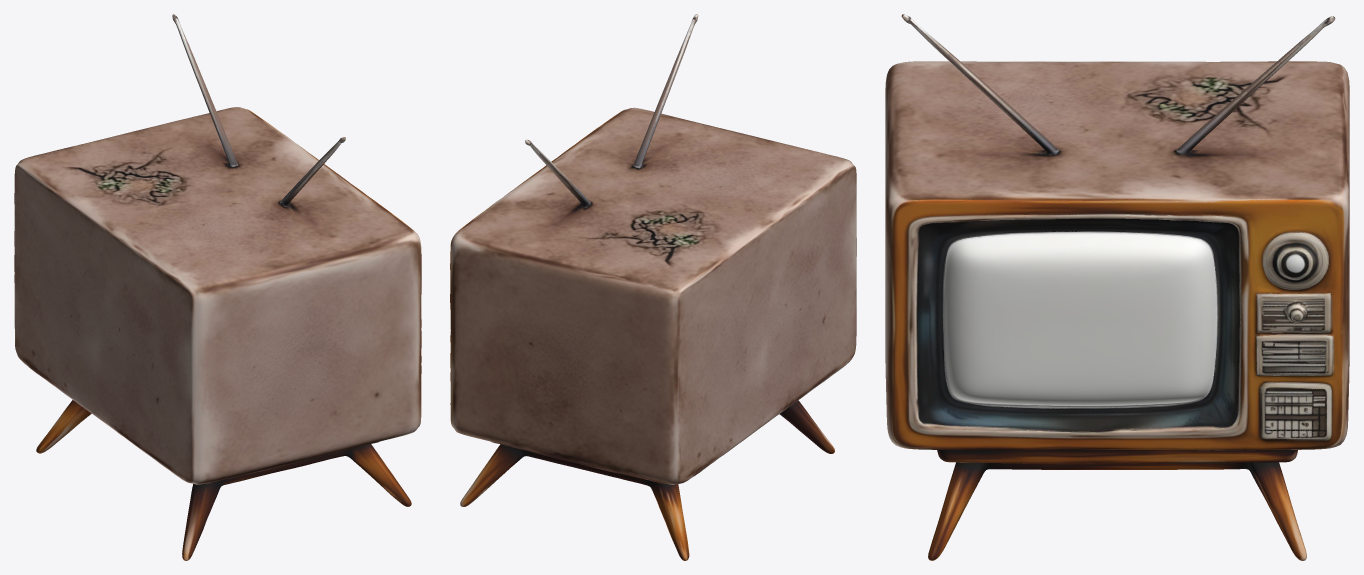
Rendered from vintage+television+3d+model.fbx.
3 renders of one model, left to right at view 1: azimuth 30°, elevation 25°; view 2: azimuth 150°, elevation 25°; view 3: azimuth 270°, elevation 25°, orthographic. The views are drawn at different scales.
Parts seen in each view (by area): view 1: tripo_node_df7796a1; view 2: tripo_node_df7796a1; view 3: tripo_node_df7796a1.
Boxes of the visible parts, x1=… form: tripo_node_df7796a1: x1=14, y1=14, x2=421, y2=560; tripo_node_df7796a1: x1=450, y1=14, x2=856, y2=560; tripo_node_df7796a1: x1=885, y1=14, x2=1349, y2=560.
Size of the model in its own units: 0.6444 by 0.9997 by 0.8424.
Materials: 1 (1 with a texture image).
